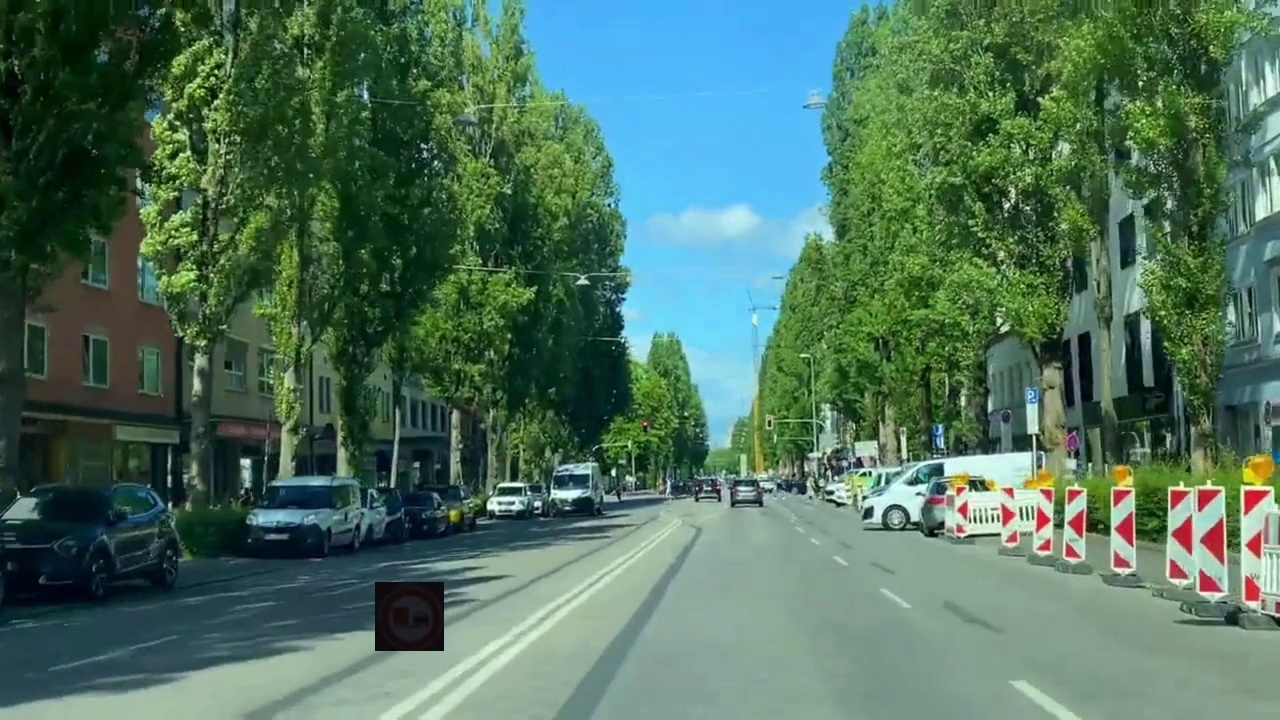No pass >3.5t: (375, 582, 444, 651)
